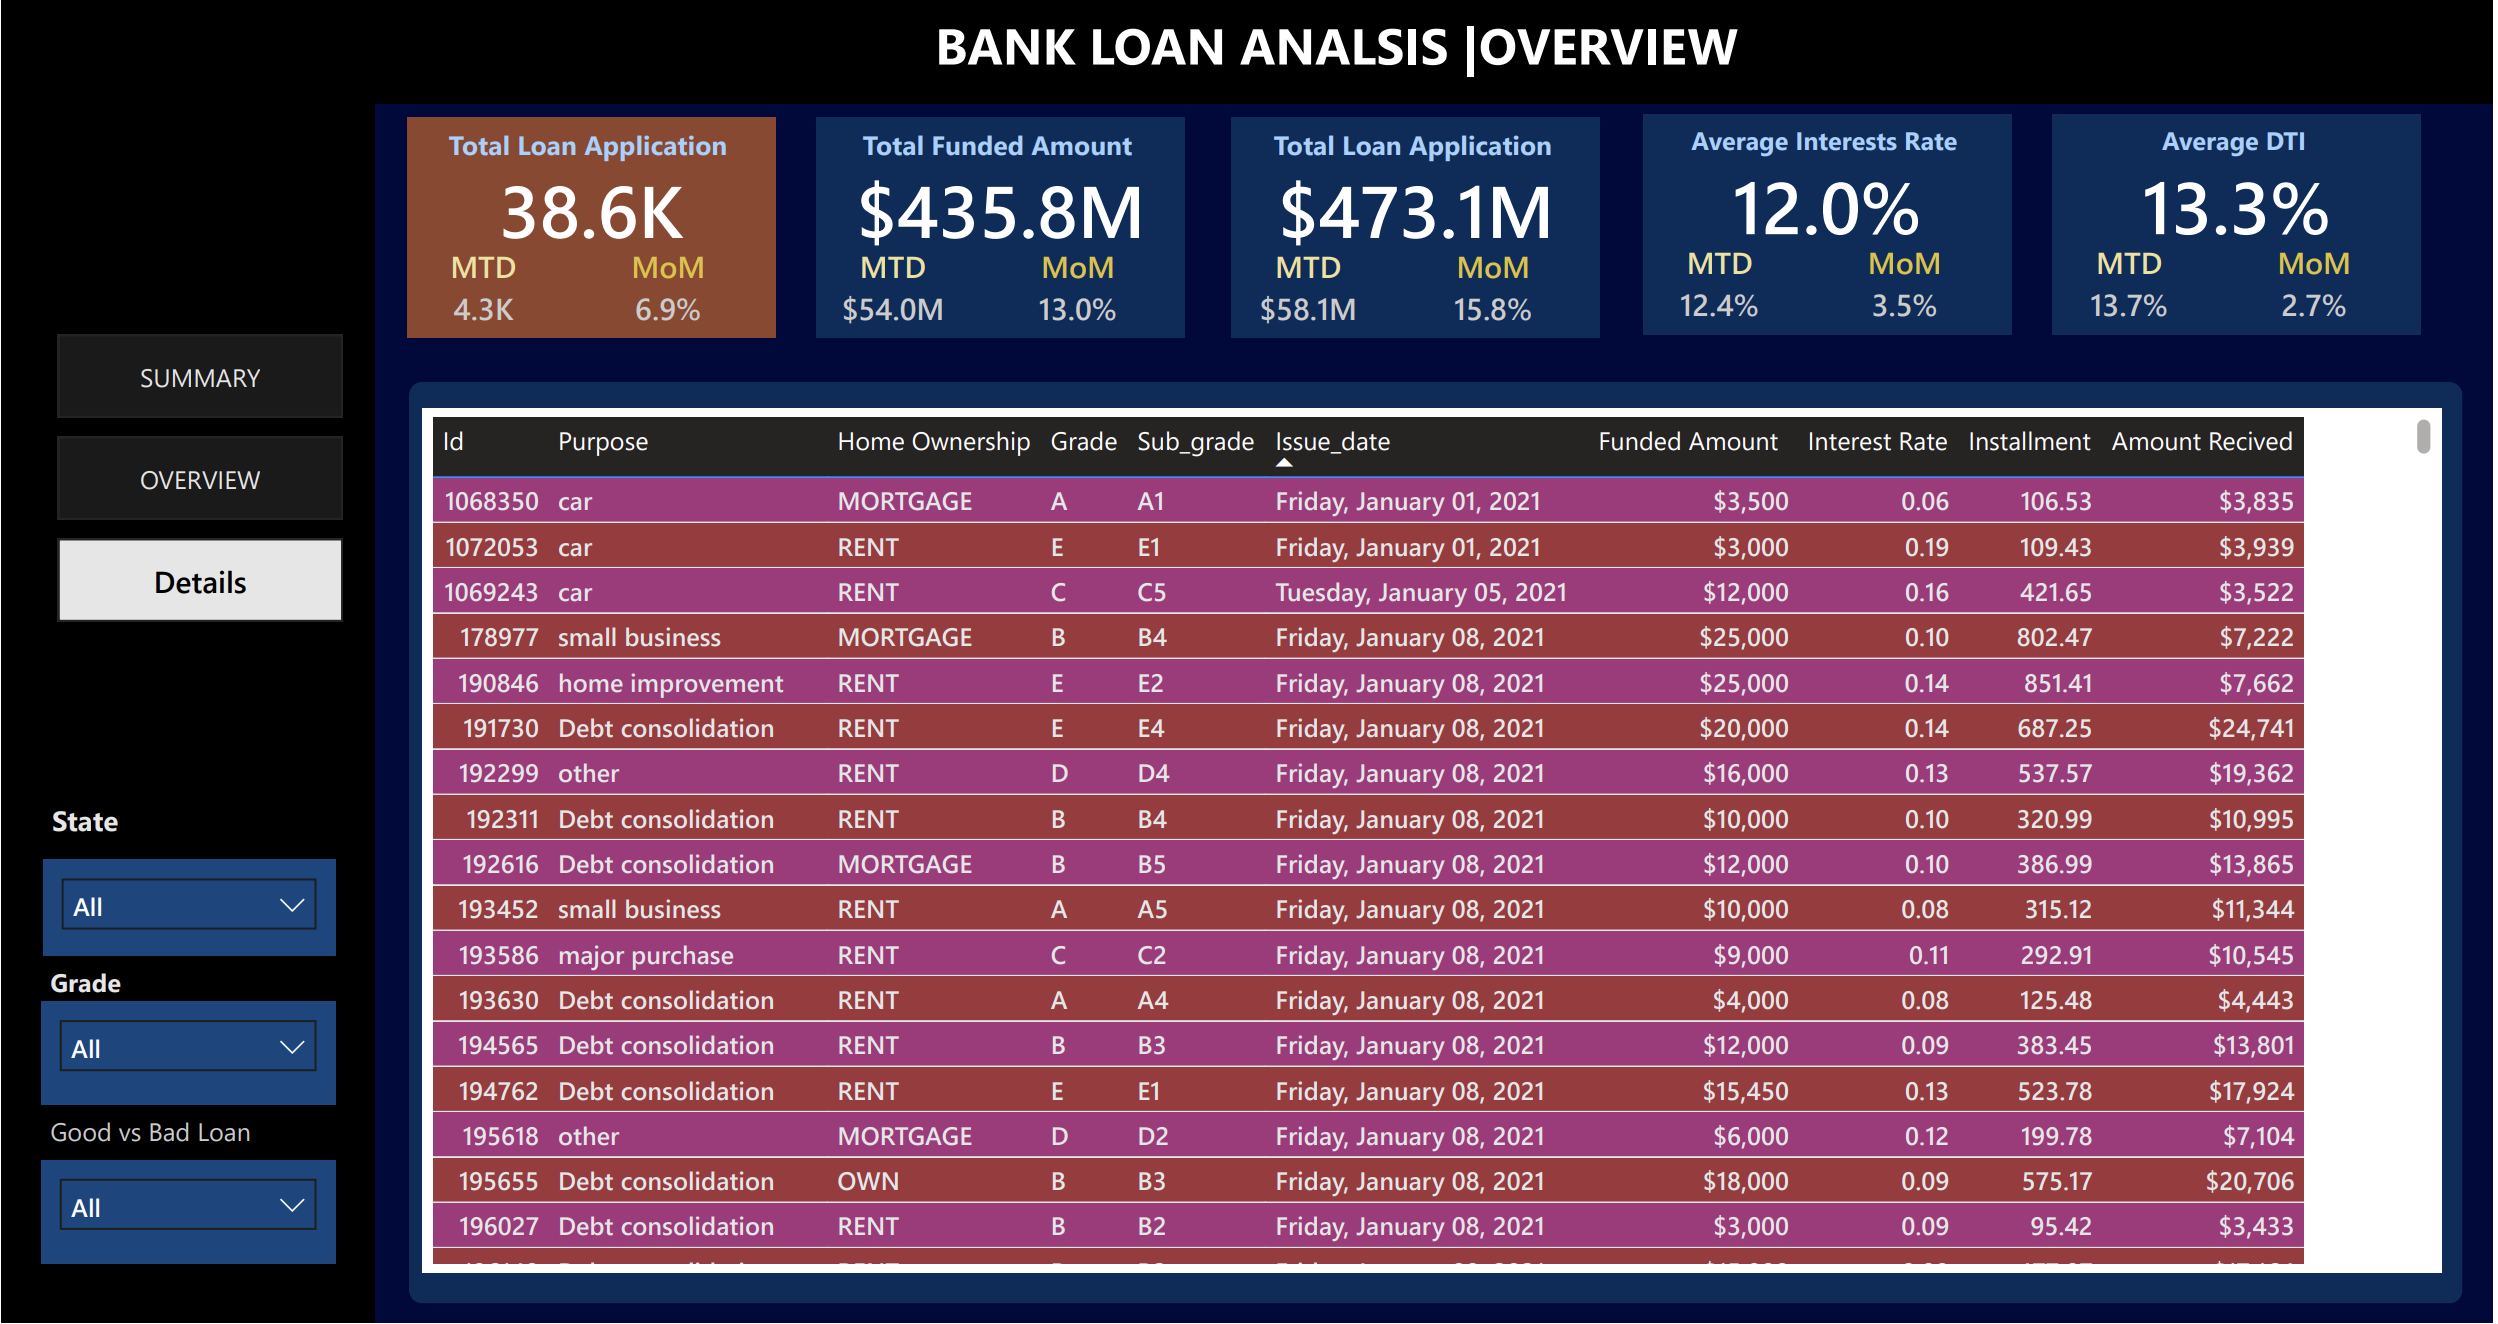

This screenshot's page, from the dashboard's own definition file:
{"tool":"powerbi","page":{"name":"Details","canvas":[1320,700],"ordinal":2},"visuals":[{"type":"shape","box":[0,0,1319.9,54.8],"z":0},{"type":"shape","box":[0,0,198.2,700],"z":1000},{"type":"shape","box":[215.7,201.5,1088.6,488.3],"z":2000},{"type":"textbox","box":[468.4,0,478.6,65.1],"z":3000},{"type":"shape","box":[870.1,60.4,195,117],"z":3000,"group":"g3"},{"type":"shape","box":[1086.5,60.4,195,117],"z":3000,"group":"g4"},{"type":"shape","box":[431.5,61.8,195,117],"z":3000,"group":"g1"},{"type":"shape","box":[652.2,61.8,195,117],"z":3000,"group":"g2"},{"type":"shape","box":[215.1,61.8,195,117],"z":4000},{"type":"card","fields":{"Values":["financial_loan.Avrage Interest Rate"]},"box":[870.1,79.2,195.2,59.3],"z":4000,"group":"g3"},{"type":"card","fields":{"Values":["financial_loan.Avg DTI"]},"box":[1086.5,79.2,195.2,59.3],"z":4000,"group":"g4"},{"type":"card","fields":{"Values":["financial_loan.totala loan amount"]},"box":[431.5,80.6,195.2,59.3],"z":4000,"group":"g1"},{"type":"card","fields":{"Values":["financial_loan.Total Amount Recived"]},"box":[652.2,80.6,195.2,59.3],"z":4000,"group":"g2"},{"type":"textbox","box":[877.3,60.4,177.8,36.1],"z":5000,"group":"g3"},{"type":"textbox","box":[1093.7,60.4,177.8,36.1],"z":5000,"group":"g4"},{"type":"textbox","box":[438.7,61.8,177.8,36.1],"z":5000,"group":"g1"},{"type":"textbox","box":[659.4,61.8,177.8,36.1],"z":5000,"group":"g2"},{"type":"card","fields":{"Values":["financial_loan.Total Loan Applicaton"]},"box":[215.1,80.6,195.2,59.3],"z":5000},{"type":"group","id":"g1","title":"Group 1","box":[431.5,61.8,195.4,116.7],"z":6000},{"type":"card","title":"MTD","fields":{"Values":["financial_loan.MTD Average Interest Rate"]},"box":[870.1,128.4,81,49.2],"z":6000,"group":"g3"},{"type":"card","title":"MTD","fields":{"Values":["financial_loan.MTD Avg DTI"]},"box":[1086.5,128.4,81,49.2],"z":6000,"group":"g4"},{"type":"card","title":"MTD","fields":{"Values":["financial_loan.MTD Funded Amount"]},"box":[431.5,129.8,81,49.2],"z":6000,"group":"g1"},{"type":"card","title":"MTD","fields":{"Values":["financial_loan.MTD Total Amount Recived"]},"box":[652.2,129.8,81,49.2],"z":6000,"group":"g2"},{"type":"textbox","box":[222.3,61.8,177.8,36.1],"z":7000},{"type":"card","title":"MoM","fields":{"Values":["financial_loan.MOM AVg int rate"]},"box":[968.4,128.4,81,49.2],"z":7000,"group":"g3"},{"type":"card","title":"MoM","fields":{"Values":["financial_loan.MOM Avg DTI"]},"box":[1184.8,128.4,81,49.2],"z":7000,"group":"g4"},{"type":"card","title":"MoM","fields":{"Values":["financial_loan.MoM Total Funded Amount"]},"box":[529.8,129.8,81,49.2],"z":7000,"group":"g1"},{"type":"card","title":"MoM","fields":{"Values":["financial_loan.MOM Total Amount Recived"]},"box":[750.5,129.8,81,49.2],"z":7000,"group":"g2"},{"type":"card","title":"MTD","fields":{"Values":["financial_loan.MTD Loan Application"]},"box":[215.1,129.8,81,49.2],"z":8000},{"type":"group","id":"g2","title":"Group 1","box":[652.2,61.8,195.4,116.7],"z":9000},{"type":"card","title":"MoM","fields":{"Values":["financial_loan.MOM Loan Application"]},"box":[313.4,129.8,81,49.2],"z":10000},{"type":"group","id":"g3","title":"Group 1","box":[870.1,60.4,195.4,118.1],"z":11000},{"type":"group","id":"g4","title":"Group 1","box":[1086.5,60.4,195.4,118.1],"z":12000},{"type":"slicer","fields":{"Values":["financial_loan.address_state"]},"box":[22.5,455.4,154.6,50.6],"z":13000},{"type":"textbox","box":[22.5,418.9,64.7,40.8],"z":14000},{"type":"slicer","fields":{"Values":["financial_loan.grade"]},"box":[21.1,529.9,156,54.8],"z":15000},{"type":"slicer","fields":{"Values":["financial_loan.Good v/s Bad Loan","financial_loan.purpose"]},"box":[21.1,614.3,156,54.8],"z":16000},{"type":"textbox","box":[21.1,506,78.7,46.4],"z":17000},{"type":"textbox","box":[21.3,584.8,156.1,39.7],"z":18000},{"type":"tableEx","fields":{"Values":["financial_loan.id","financial_loan.purpose","financial_loan.home_ownership","financial_loan.grade","financial_loan.sub_grade","financial_loan.issue_date","financial_loan.Total Funded Amount","Sum(financial_loan.int_rate)","Sum(financial_loan.installment)","financial_loan.Total Amount Recived"]},"box":[222.8,215.7,1070.2,458.5],"z":21001},{"type":"pageNavigator","box":[29.5,177.1,151.8,153.2],"z":21002}]}

Visuals, with their boxes in screenshot pixels (x1, y1, x2, y2), scaled from the page's 1320x700 canvas onto the 2498x1324 screenshot:
shape: box=[0, 0, 2497, 104]
shape: box=[0, 0, 375, 1323]
shape: box=[408, 381, 2468, 1305]
textbox: box=[886, 0, 1792, 123]
shape: box=[1647, 114, 2016, 336]
shape: box=[2056, 114, 2425, 336]
shape: box=[817, 117, 1186, 338]
shape: box=[1234, 117, 1603, 338]
shape: box=[407, 117, 776, 338]
card - financial_loan.Avrage Interest Rate: box=[1647, 150, 2016, 262]
card - financial_loan.Avg DTI: box=[2056, 150, 2426, 262]
card - financial_loan.totala loan amount: box=[817, 152, 1186, 265]
card - financial_loan.Total Amount Recived: box=[1234, 152, 1604, 265]
textbox: box=[1660, 114, 1997, 183]
textbox: box=[2070, 114, 2406, 183]
textbox: box=[830, 117, 1167, 185]
textbox: box=[1248, 117, 1584, 185]
card - financial_loan.Total Loan Applicaton: box=[407, 152, 776, 265]
"Group 1" group: box=[817, 117, 1186, 338]
"MTD" card: box=[1647, 243, 1800, 336]
"MTD" card: box=[2056, 243, 2209, 336]
"MTD" card: box=[817, 246, 970, 339]
"MTD" card: box=[1234, 246, 1388, 339]
textbox: box=[421, 117, 757, 185]
"MoM" card: box=[1833, 243, 1986, 336]
"MoM" card: box=[2242, 243, 2395, 336]
"MoM" card: box=[1003, 246, 1156, 339]
"MoM" card: box=[1420, 246, 1574, 339]
"MTD" card: box=[407, 246, 560, 339]
"Group 1" group: box=[1234, 117, 1604, 338]
"MoM" card: box=[593, 246, 746, 339]
"Group 1" group: box=[1647, 114, 2016, 338]
"Group 1" group: box=[2056, 114, 2426, 338]
slicer - financial_loan.address_state: box=[43, 861, 335, 957]
textbox: box=[43, 792, 165, 869]
slicer - financial_loan.grade: box=[40, 1002, 335, 1106]
slicer - financial_loan.Good v/s Bad Loan x financial_loan.purpose: box=[40, 1162, 335, 1266]
textbox: box=[40, 957, 189, 1045]
textbox: box=[40, 1106, 336, 1181]
tableEx - financial_loan.id x financial_loan.purpose: box=[422, 408, 2447, 1275]
pageNavigator: box=[56, 335, 343, 625]
